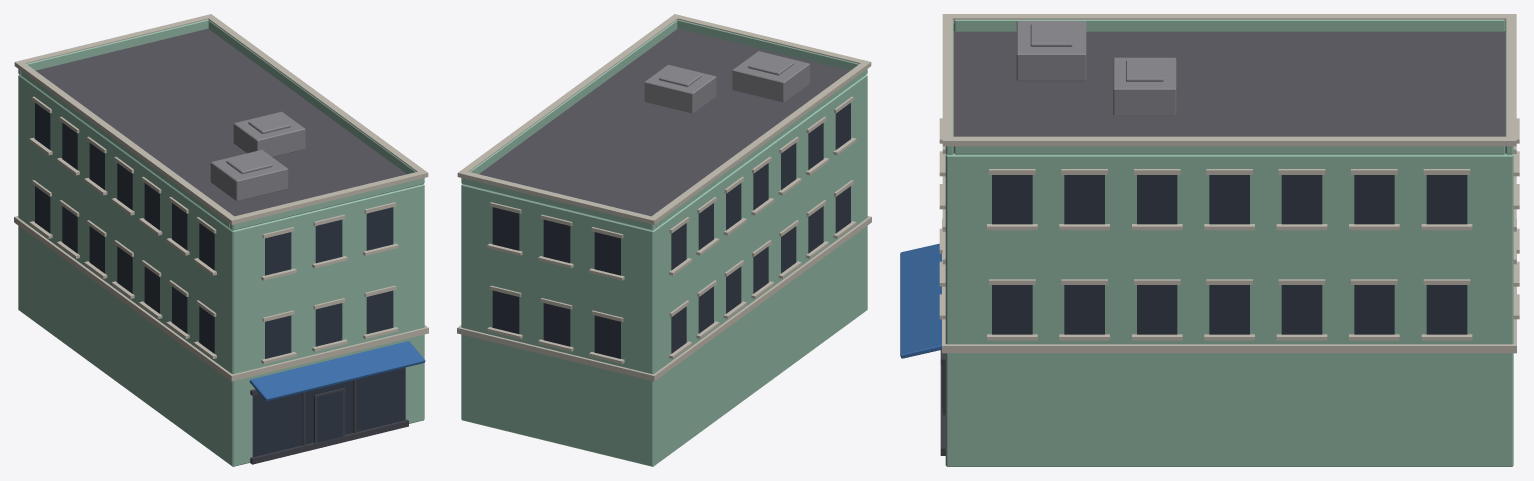
File: ShopTall.fbx
3 renders of one model, left to right at view 1: azimuth 30°, elevation 25°; view 2: azimuth 150°, elevation 25°; view 3: azimuth 270°, elevation 25°, orthographic. The views are drawn at different scales.
Parts seen in each view (by area): view 1: ShopTall_Body, ShopTall_Roof, ShopTall_Windows, ShopTall_Trim, ShopTall_RoofUnits, ShopTall_Awning, ShopTall_Frame, ShopTall_Door; view 2: ShopTall_Body, ShopTall_Roof, ShopTall_Trim, ShopTall_Windows, ShopTall_RoofUnits; view 3: ShopTall_Body, ShopTall_Roof, ShopTall_Trim, ShopTall_Windows, ShopTall_RoofUnits, ShopTall_Awning, ShopTall_Frame.
Part boxes in pixels (x1,y1,x2,y2): ShopTall_Body: [18, 19, 424, 466]; ShopTall_Roof: [36, 28, 406, 216]; ShopTall_Windows: [35, 103, 405, 457]; ShopTall_Trim: [14, 14, 428, 381]; ShopTall_RoofUnits: [210, 111, 305, 201]; ShopTall_Awning: [249, 341, 425, 401]; ShopTall_Frame: [250, 379, 408, 464]; ShopTall_Door: [317, 391, 342, 442]; ShopTall_Body: [461, 19, 867, 466]; ShopTall_Roof: [479, 28, 849, 216]; ShopTall_Trim: [457, 14, 871, 381]; ShopTall_Windows: [492, 103, 850, 358]; ShopTall_RoofUnits: [644, 51, 809, 113]; ShopTall_Body: [945, 19, 1513, 466]; ShopTall_Roof: [953, 31, 1505, 136]; ShopTall_Trim: [939, 14, 1519, 353]; ShopTall_Windows: [992, 175, 1467, 334]; ShopTall_RoofUnits: [1016, 21, 1176, 115]; ShopTall_Awning: [900, 243, 941, 358]; ShopTall_Frame: [940, 350, 945, 455].
Size of the model in its own units: 30.2 by 37.7 by 61.07.
